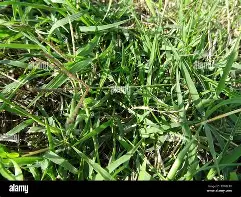weed: (0, 0, 240, 179)
